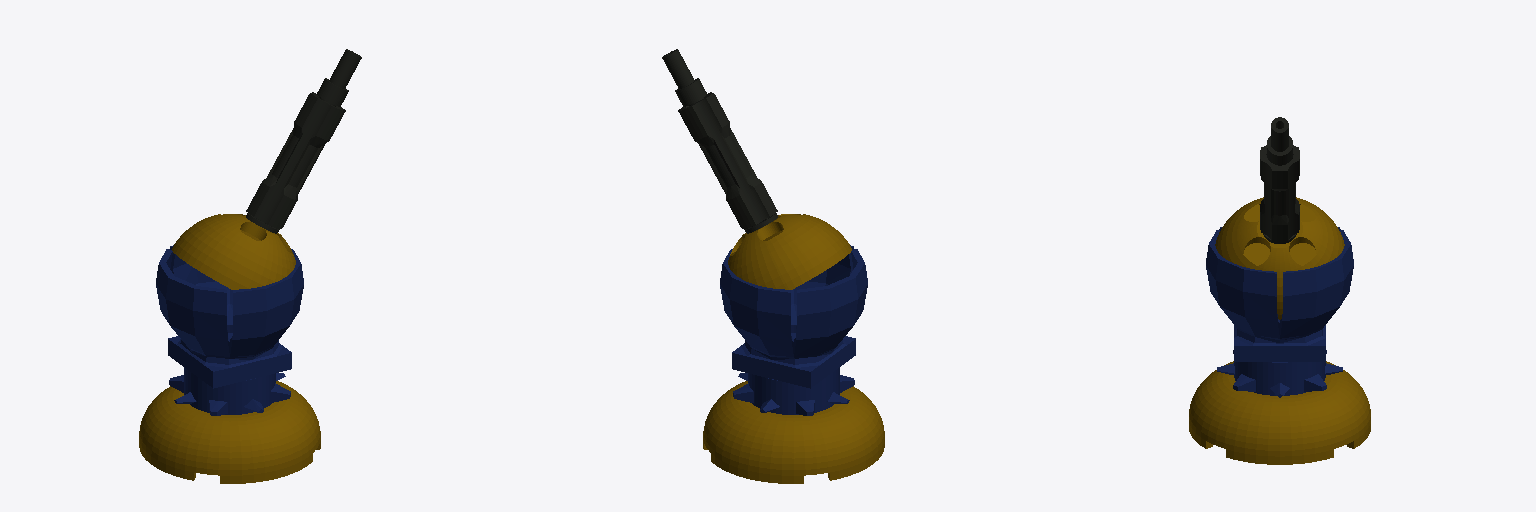
The model's file is turret.obj.
3 views of the same model, side by side, from view 1: azimuth 30°, elevation 25°; view 2: azimuth 150°, elevation 25°; view 3: azimuth 270°, elevation 25° (orthographic).
Parts seen in each view (by area): view 1: Inner-Node-turret_dot_io-0.001; view 2: Inner-Node-turret_dot_io-0.001; view 3: Inner-Node-turret_dot_io-0.001.
Part boxes in pixels (left/top/right/bottom): Inner-Node-turret_dot_io-0.001: left=139, top=49, right=361, bottom=483; Inner-Node-turret_dot_io-0.001: left=662, top=49, right=884, bottom=483; Inner-Node-turret_dot_io-0.001: left=1189, top=117, right=1370, bottom=464.
Bounding box in the file's own units: 0.4149 × 0.6943 × 0.3142.